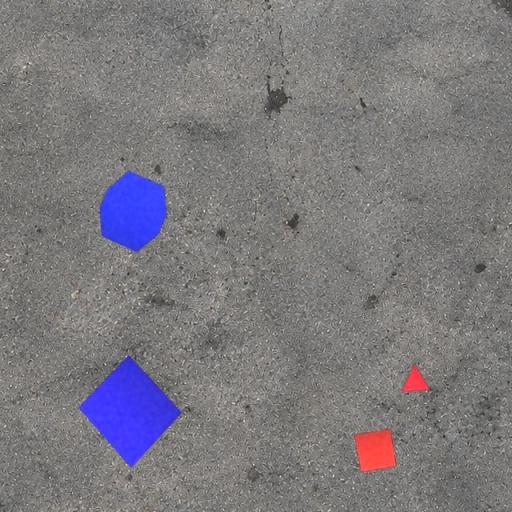BLUE_SQUARE: (78, 355, 183, 468)
RED_SQUARE: (354, 428, 396, 473)
